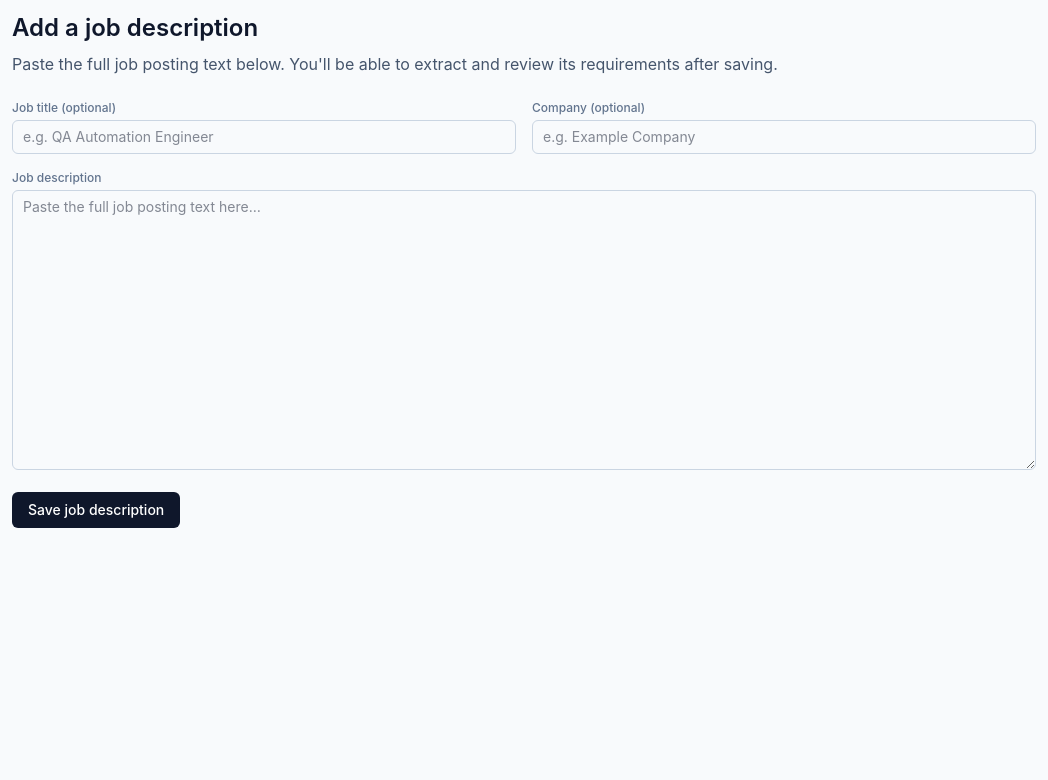
JobNew › shows an error message when saving fails
This screenshot has width=1048, height=780.
Type "Some JD text" into the text box with placeholder "Paste the full job posting text here…" at coordinates (524, 330), box [12,190,1036,470]
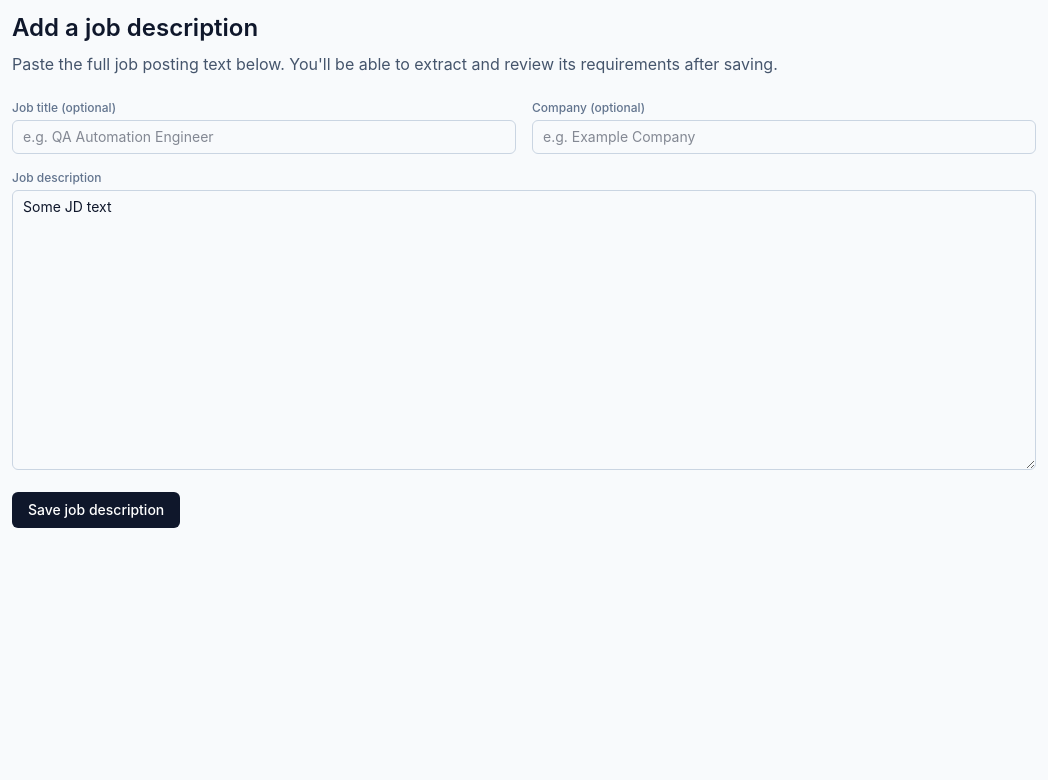
Click the button "Save job description" at coordinates (96, 510), box [12,492,180,528]
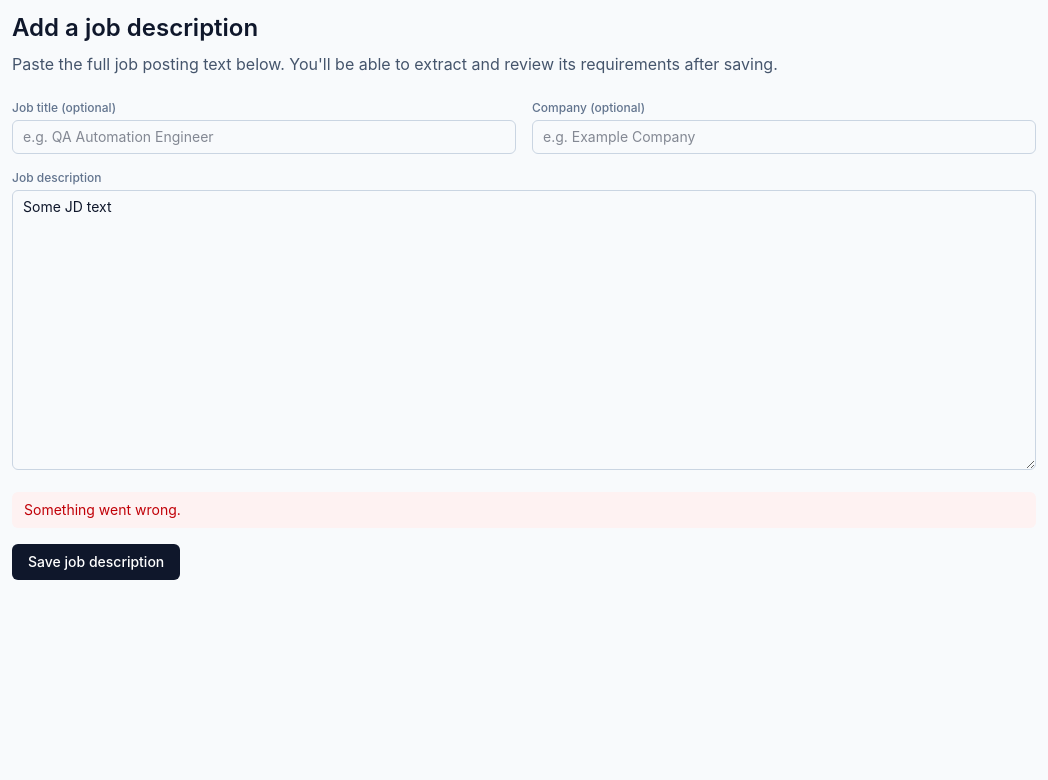
Check: the text "Something went wrong." is shown, box [12,492,1036,528]
